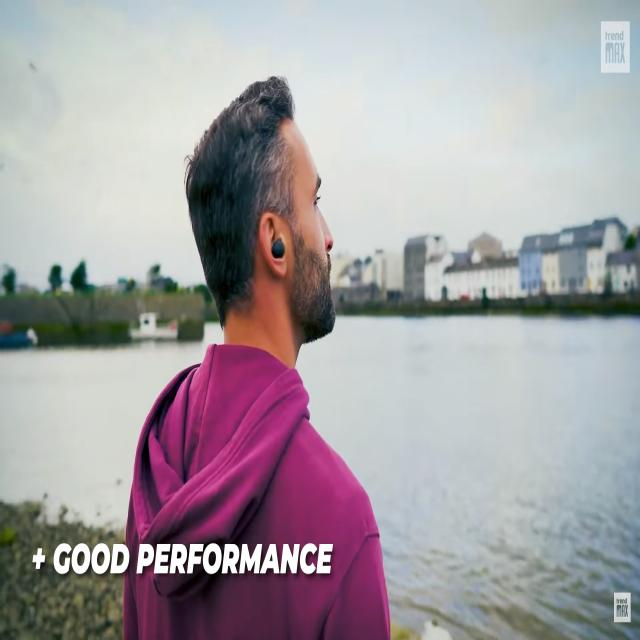airpods: (269, 235, 286, 261)
